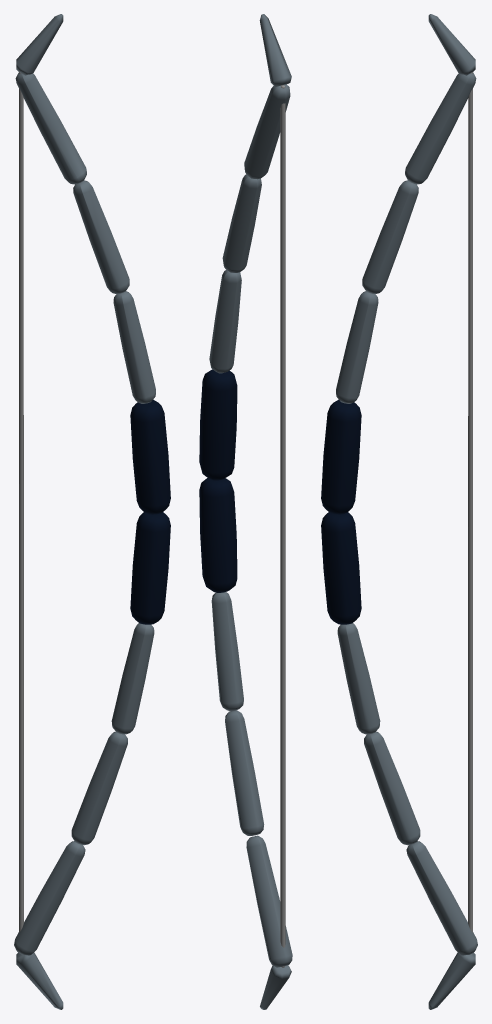
Rendered from Arma_ArcoVentoNorte.fbx.
3 views of the same model, side by side, from view 1: azimuth 90°, elevation 25°; view 2: azimuth 210°, elevation 25°; view 3: azimuth 270°, elevation 25° (orthographic).
Visible parts, largest first — view 1: Piece; view 2: Piece; view 3: Piece.
Boxes of the visible parts, x1,y1,x2,y2 form: Piece: (14,14,170,1009); Piece: (199,14,292,1009); Piece: (321,14,477,1009).
Bounding box in the file's own units: 0.0525 × 1.61 × 0.2297.
